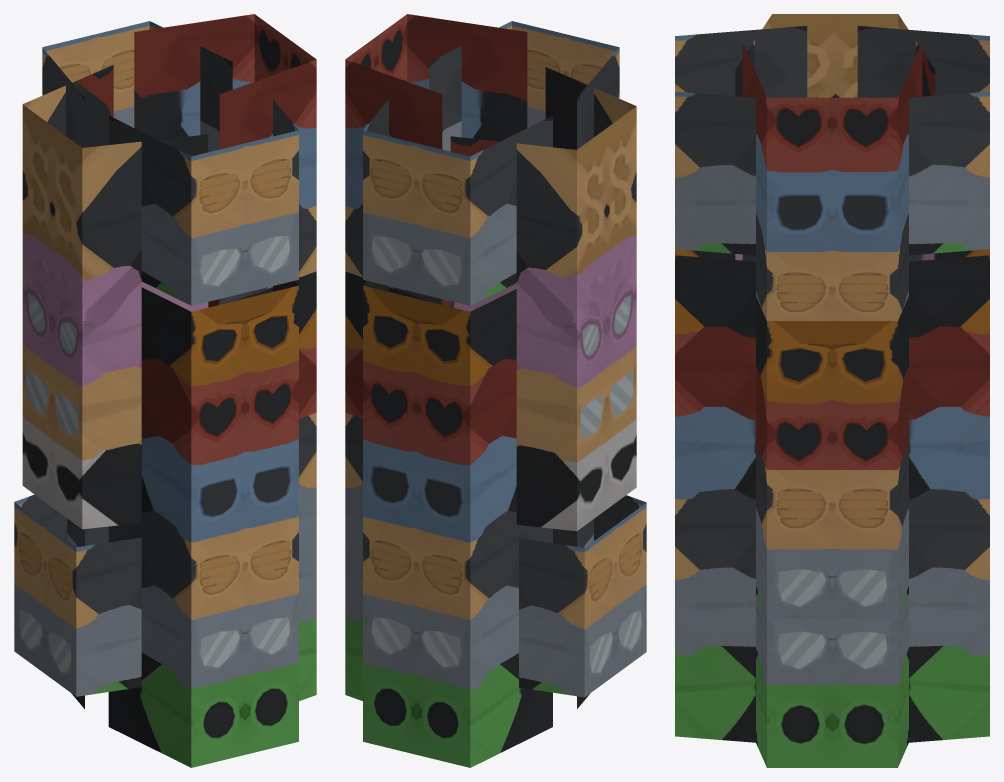
The model's file is SM_Prop_Shop_Stand_04_Insert_01.fbx.
The picture shows the model from 3 angles, left to right: view 1: azimuth 30°, elevation 25°; view 2: azimuth 150°, elevation 25°; view 3: azimuth 270°, elevation 25°; orthographic projection. The views are drawn at different scales.
Parts seen in each view (by area): view 1: SM_Prop_Shop_Stand_04_Insert_01; view 2: SM_Prop_Shop_Stand_04_Insert_01; view 3: SM_Prop_Shop_Stand_04_Insert_01.
Part boxes in pixels (bbox=[...]): SM_Prop_Shop_Stand_04_Insert_01: bbox=[14, 14, 316, 767]; SM_Prop_Shop_Stand_04_Insert_01: bbox=[345, 14, 646, 767]; SM_Prop_Shop_Stand_04_Insert_01: bbox=[675, 14, 989, 767].
Size of the model in its own units: 42.93 by 109 by 46.24.
